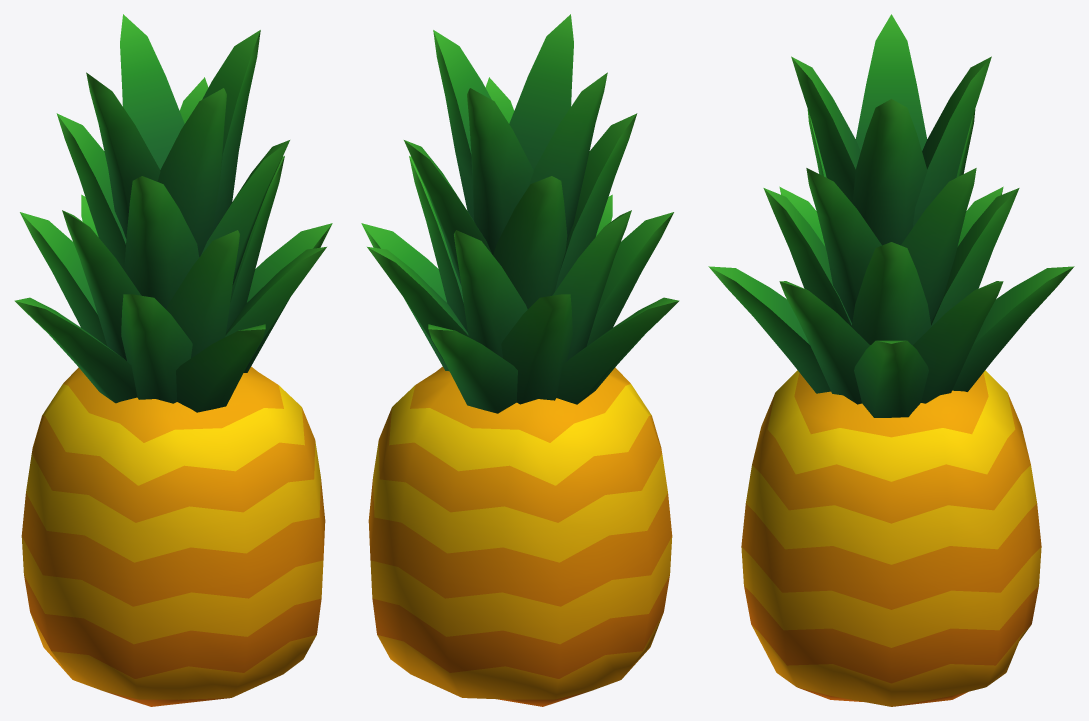
Rendered from Pineapple_01.glb.
3 views of the same model, side by side, from view 1: azimuth 30°, elevation 25°; view 2: azimuth 150°, elevation 25°; view 3: azimuth 270°, elevation 25° (orthographic).
Visible parts, largest first — view 1: Pineapple_01; view 2: Pineapple_01; view 3: Pineapple_01.
Boxes of the visible parts, x1,y1,x2,y2 form: Pineapple_01: [14, 14, 332, 706]; Pineapple_01: [361, 14, 679, 706]; Pineapple_01: [708, 14, 1074, 706].
Size of the model in its own units: 0.4088 by 0.7672 by 0.4088.
1 material, 1 textured.
